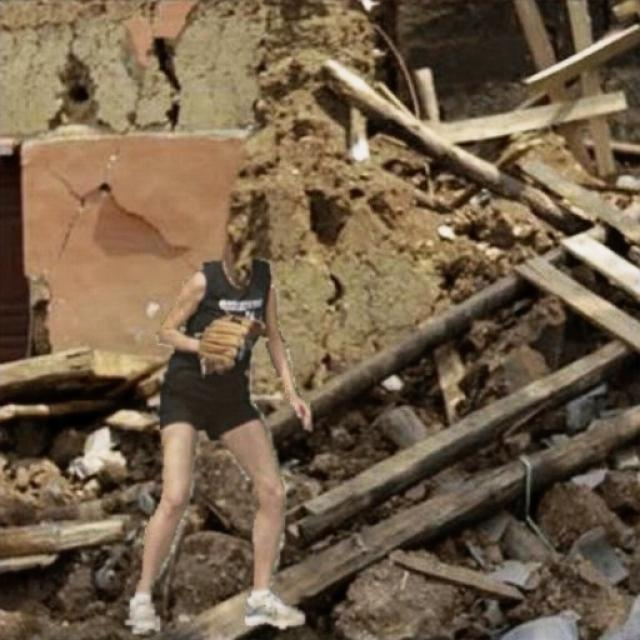Person in Rubble: (125, 258, 311, 632)
